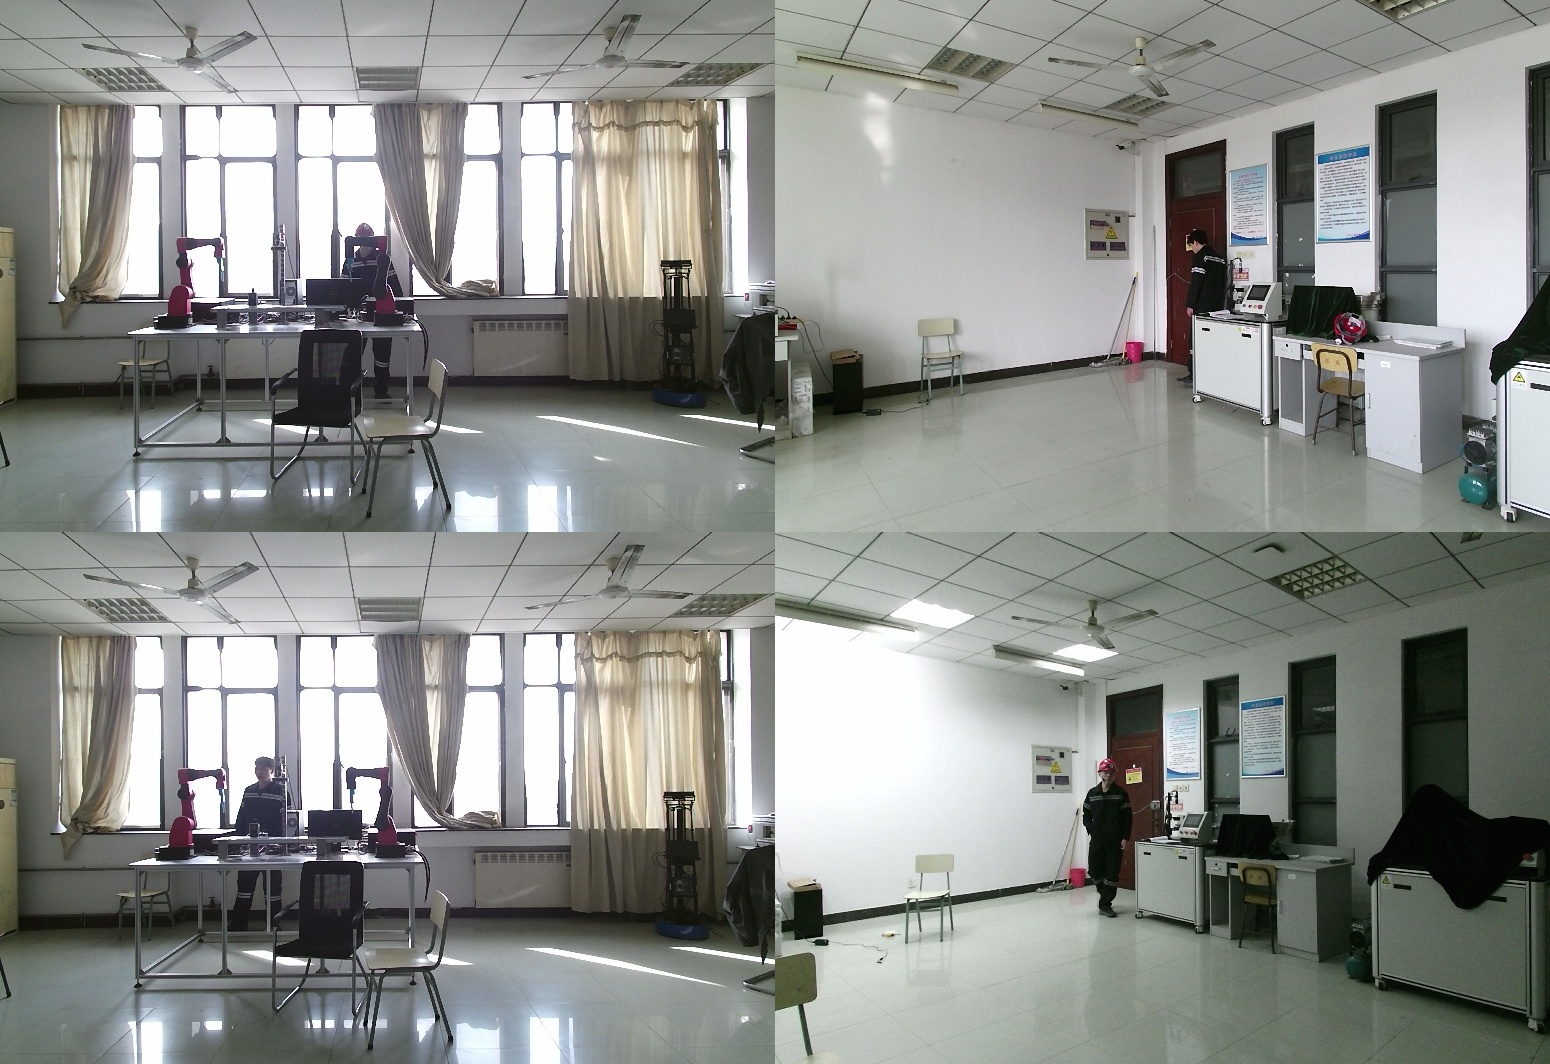person: (229, 756, 297, 934), (343, 224, 403, 398), (1080, 760, 1139, 921), (1184, 232, 1230, 387)
